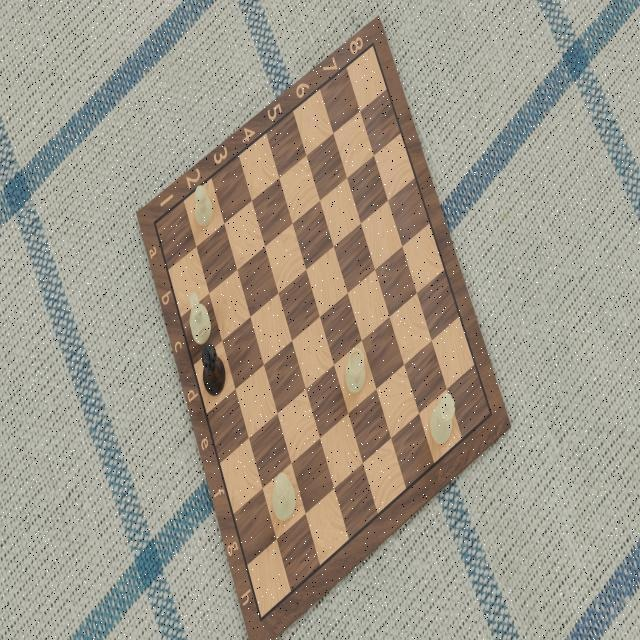black-king: (200, 342, 228, 398)
white-king: (269, 470, 298, 528)
white-knight: (188, 289, 212, 346)
white-pawn: (194, 185, 214, 229)
white-queen: (429, 391, 455, 448)
white-rook: (343, 345, 368, 401)
